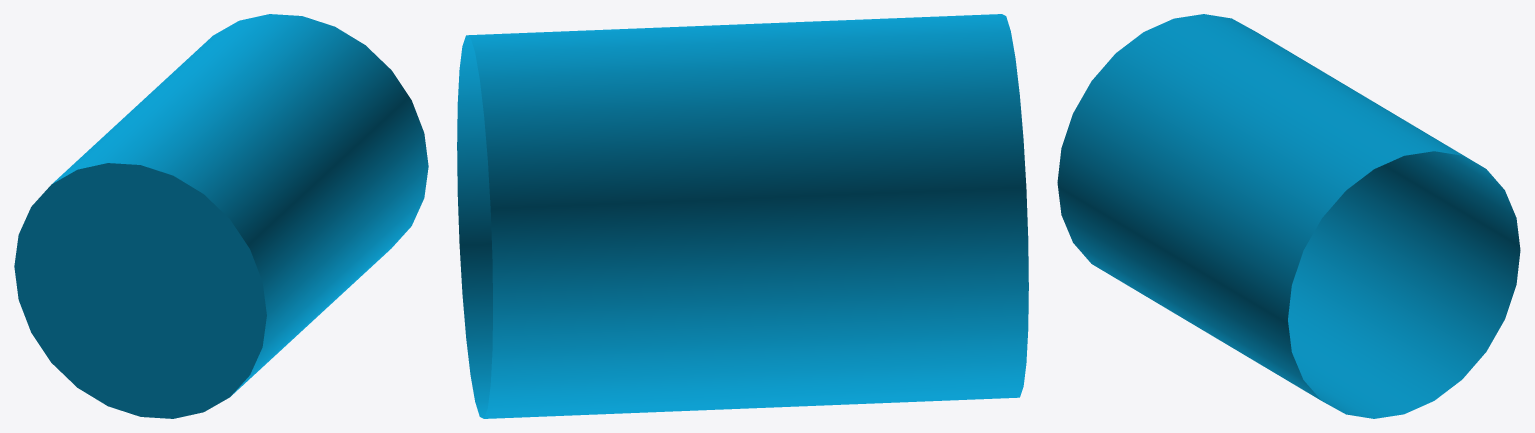
Rendered from original-31.obj.
3 views of the same model, side by side, from view 1: azimuth 30°, elevation 25°; view 2: azimuth 150°, elevation 25°; view 3: azimuth 270°, elevation 25° (orthographic). The views are drawn at different scales.
Parts seen in each view (by area): view 1: #ID333; view 2: #ID333; view 3: #ID333.
Boxes of the visible parts, x1=… form: #ID333: x1=14, y1=14, x2=428, y2=418; #ID333: x1=457, y1=14, x2=1028, y2=418; #ID333: x1=1057, y1=14, x2=1520, y2=418.
Size of the model in its own units: 0.0727 by 0.0423 by 0.0687.
